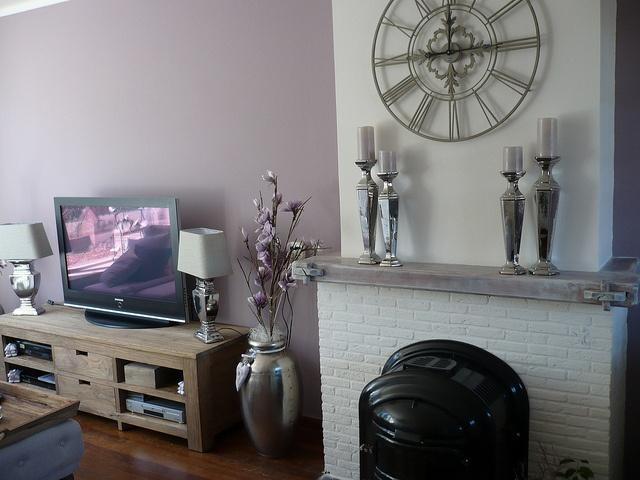AIO PC-Monitor-TV: (51, 194, 190, 331)
